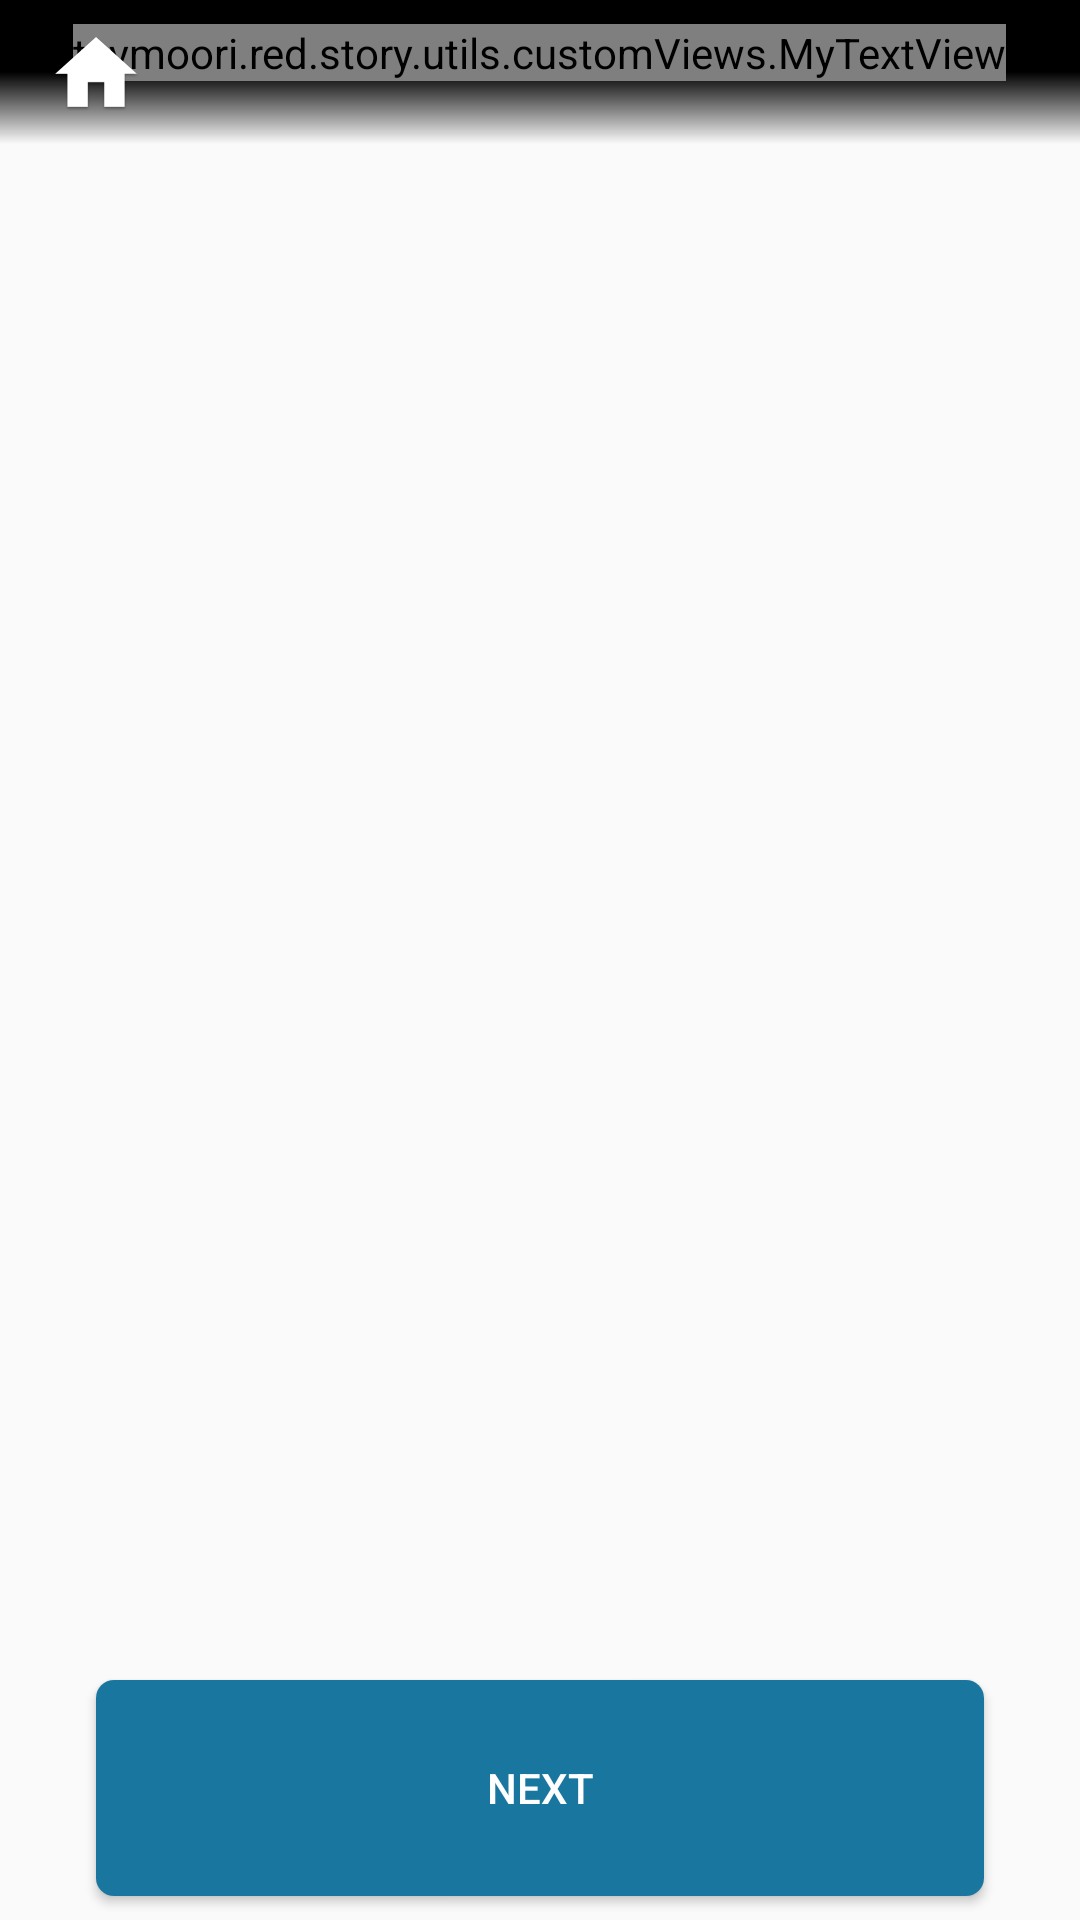

Point at icon controls on the screen. Image size 1080x1920, points as point (x, y).
home: point (96, 72)
